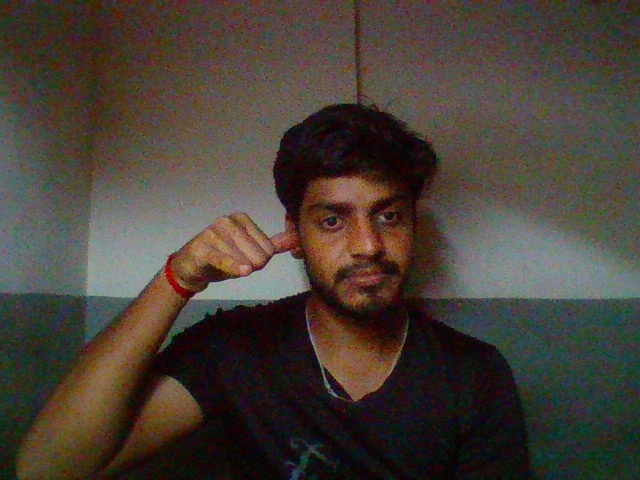Call: (165, 210, 302, 300)
